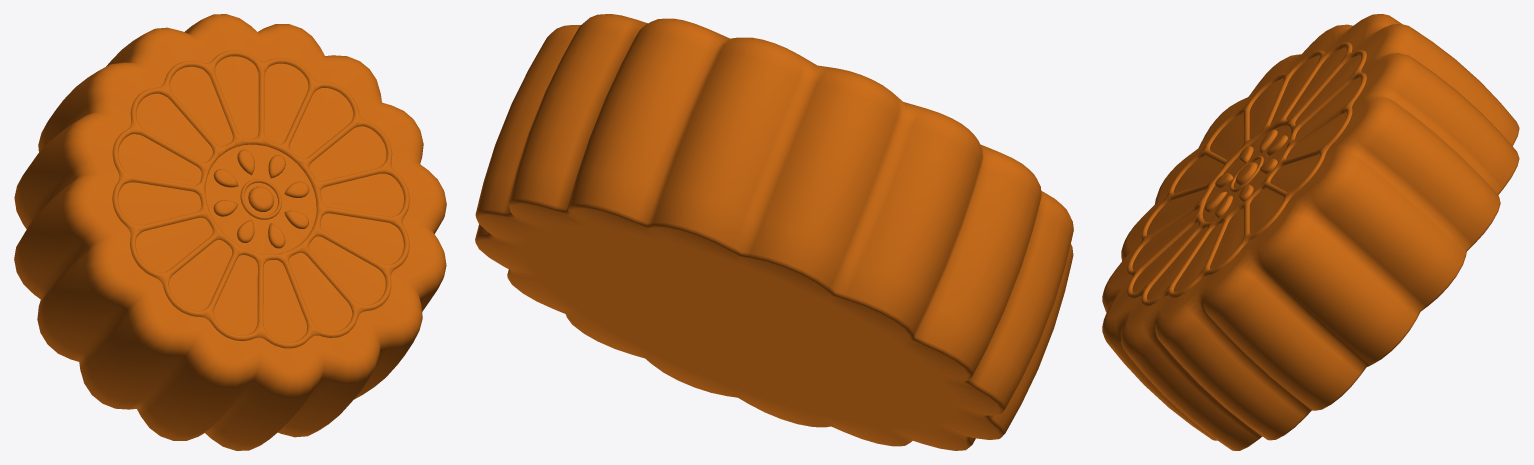
The model's file is moon_cake.glb.
The picture shows the model from 3 angles, left to right: view 1: azimuth 30°, elevation 25°; view 2: azimuth 150°, elevation 25°; view 3: azimuth 270°, elevation 25°; orthographic projection. The views are drawn at different scales.
Visible parts, largest first — view 1: Circle.2249; view 2: Circle.2249; view 3: Circle.2249.
Boxes of the visible parts, <box> form: Circle.2249: <box>14,14,446,450</box>; Circle.2249: <box>475,14,1073,450</box>; Circle.2249: <box>1102,14,1519,450</box>.
Size of the model in its own units: 2.24 by 2.09 by 2.09.
Materials: 1 (1 with a texture image).
